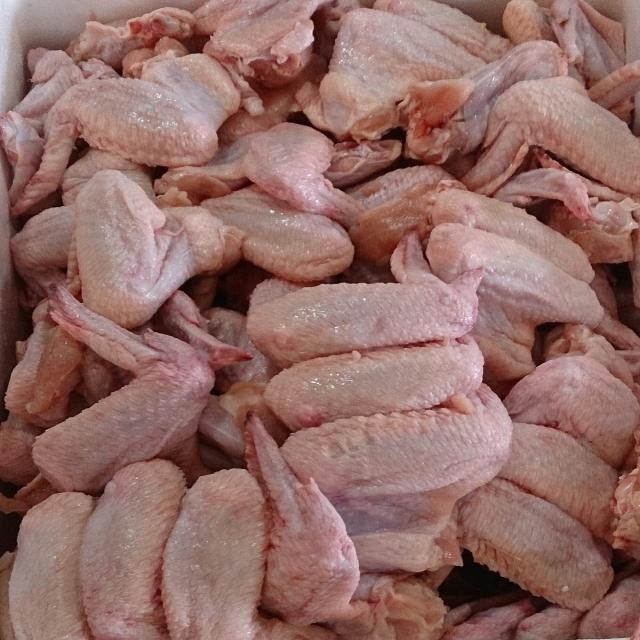wing: (59, 288, 224, 494)
